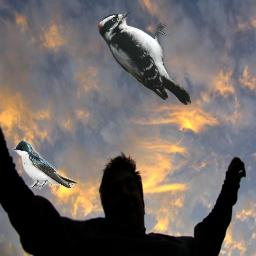Swallow: (12, 139, 79, 190)
Woodpecker: (98, 11, 191, 105)
